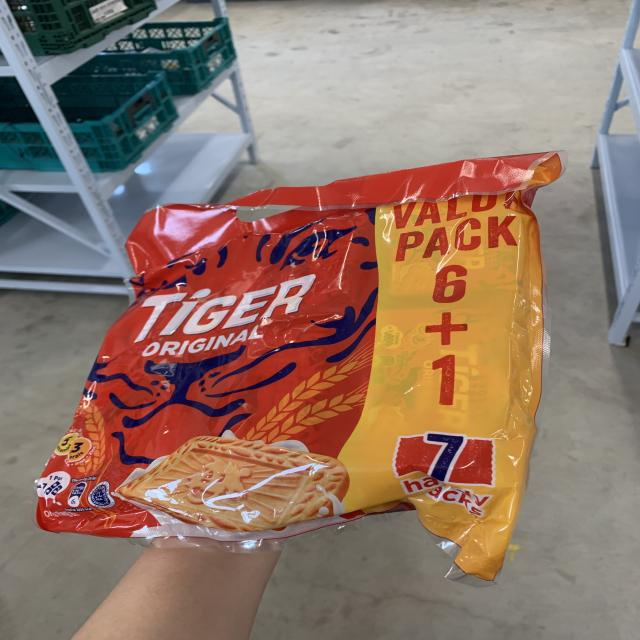object_name: (82, 194, 526, 548)
